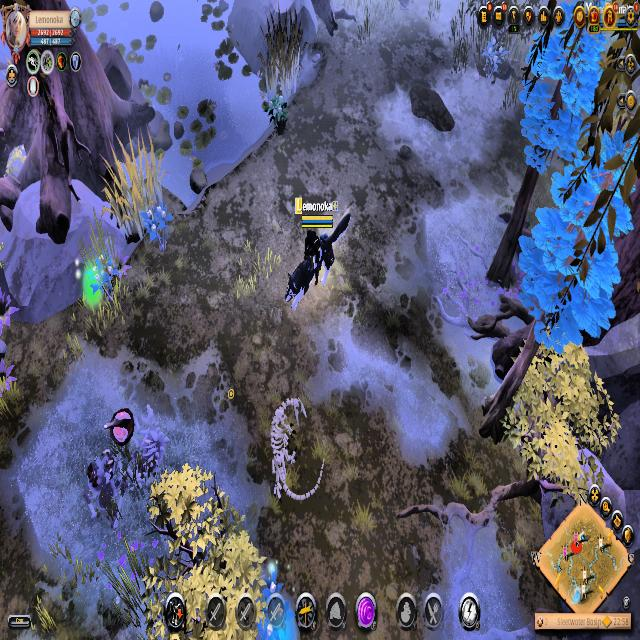fiber tier 4: (89, 251, 122, 305), (141, 202, 173, 252)
wood tier 3: (517, 125, 639, 356)
